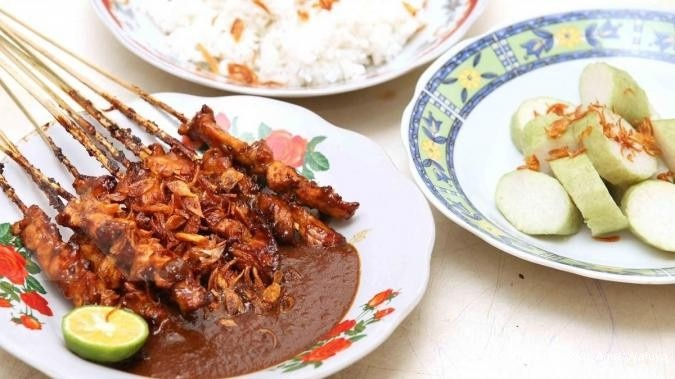sate_madura: (2, 50, 370, 365)
